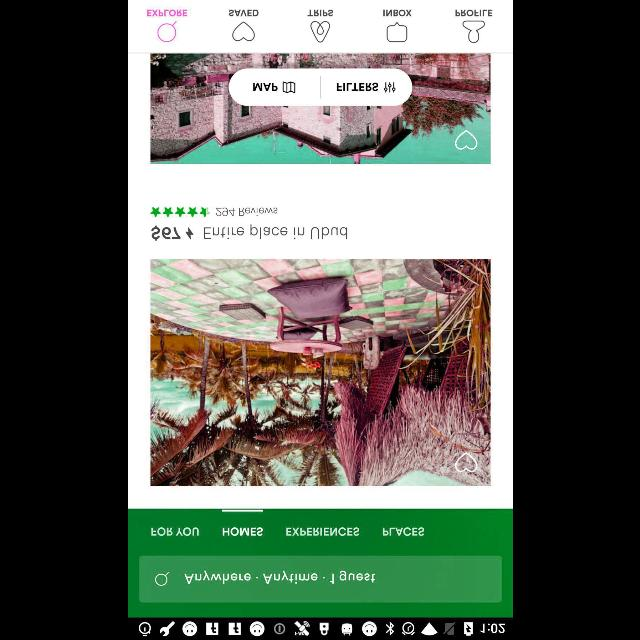icon: (150, 206, 210, 218), (452, 128, 480, 152), (462, 21, 484, 44), (454, 452, 478, 472), (156, 20, 176, 42), (232, 21, 254, 41), (386, 22, 406, 42), (154, 572, 168, 586)
image: (150, 259, 490, 486), (150, 53, 490, 163), (310, 21, 330, 43)
input: (138, 556, 502, 602)
text: (151, 223, 347, 240), (183, 570, 374, 584), (286, 526, 358, 536), (215, 208, 277, 216), (150, 526, 198, 536), (382, 526, 424, 536), (222, 526, 262, 536), (146, 9, 187, 17), (454, 9, 492, 17), (382, 10, 412, 16), (228, 10, 258, 16), (307, 10, 333, 16)
textbutton: (228, 68, 320, 105), (321, 68, 412, 105)
uppertaskbar: (128, 617, 512, 639)
